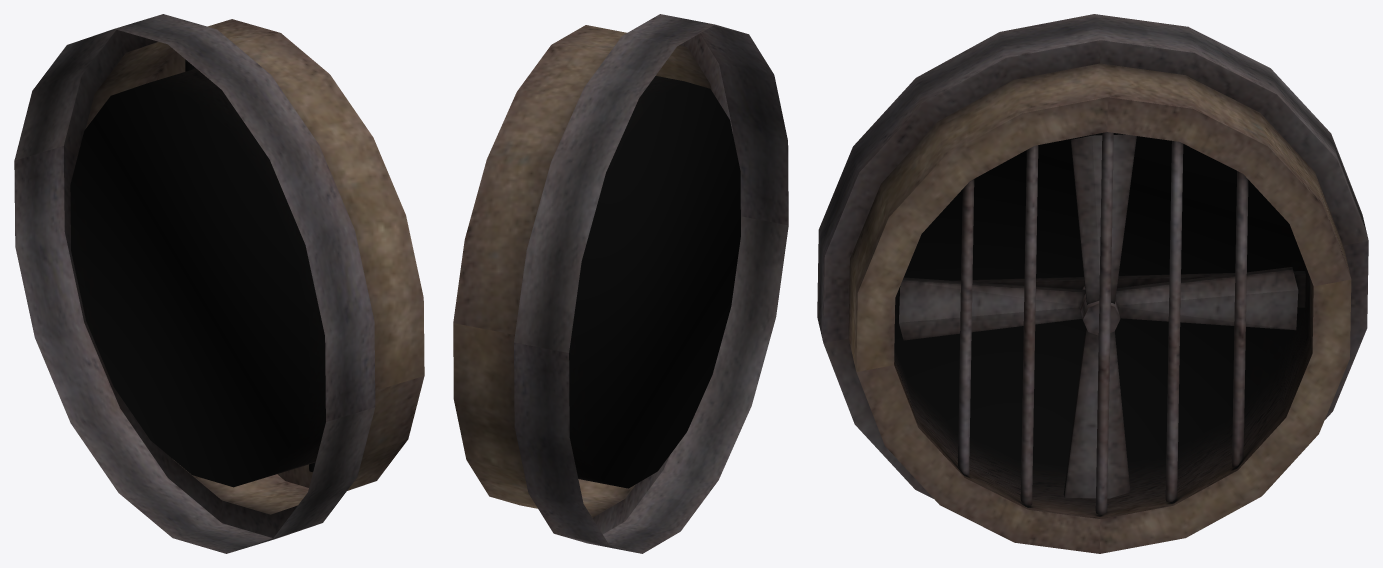
Rendered from SM_O_HazardVent.FBX.
3 renders of one model, left to right at view 1: azimuth 30°, elevation 25°; view 2: azimuth 150°, elevation 25°; view 3: azimuth 270°, elevation 25°, orthographic. The views are drawn at different scales.
Visible parts, largest first — view 1: SM_I_BoosterVent003; view 2: SM_I_BoosterVent003; view 3: SM_I_BoosterVent003.
Part boxes in pixels (left/top/right/bottom): SM_I_BoosterVent003: left=14, top=14, right=424, bottom=553; SM_I_BoosterVent003: left=453, top=14, right=788, bottom=553; SM_I_BoosterVent003: left=817, top=14, right=1368, bottom=553.
Size of the model in its own units: 15.33 by 44.07 by 43.8.
